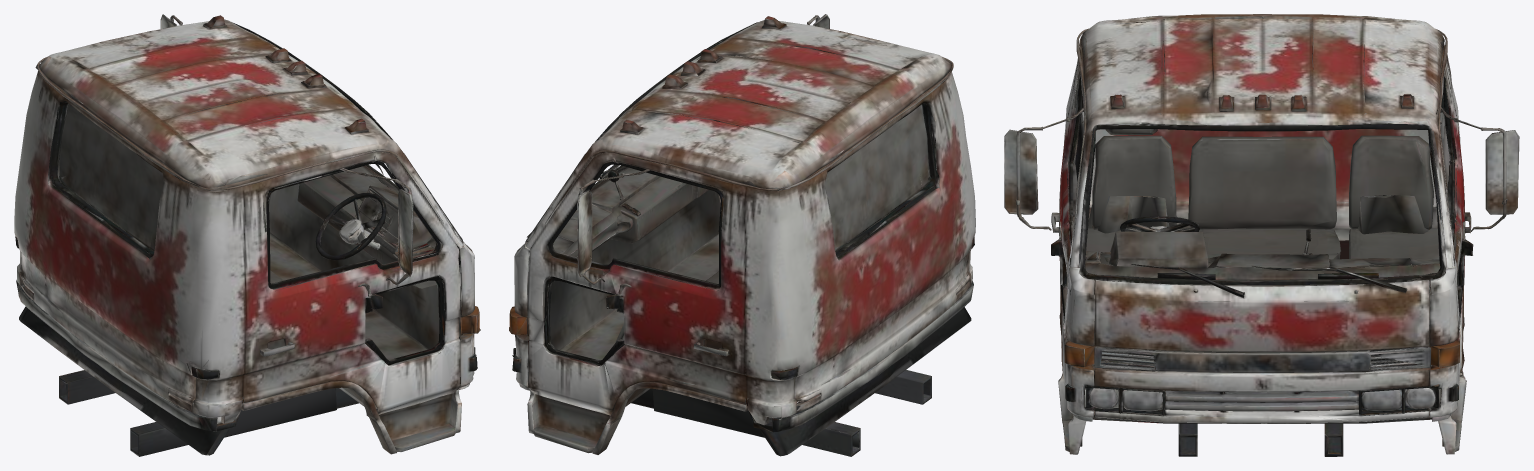
File: rcab.glb
The picture shows the model from 3 angles, left to right: view 1: azimuth 30°, elevation 25°; view 2: azimuth 150°, elevation 25°; view 3: azimuth 270°, elevation 25°; orthographic projection. The views are drawn at different scales.
Parts seen in each view (by area): view 1: rcab; view 2: rcab; view 3: rcab.
Boxes of the visible parts, left/top/right/bottom form: rcab: left=14, top=14, right=480, bottom=456; rcab: left=509, top=14, right=975, bottom=456; rcab: left=1004, top=14, right=1519, bottom=456.
Bounding box in the file's own units: 1.9 × 1.89 × 2.7.
Materials: 1 (1 with a texture image).
